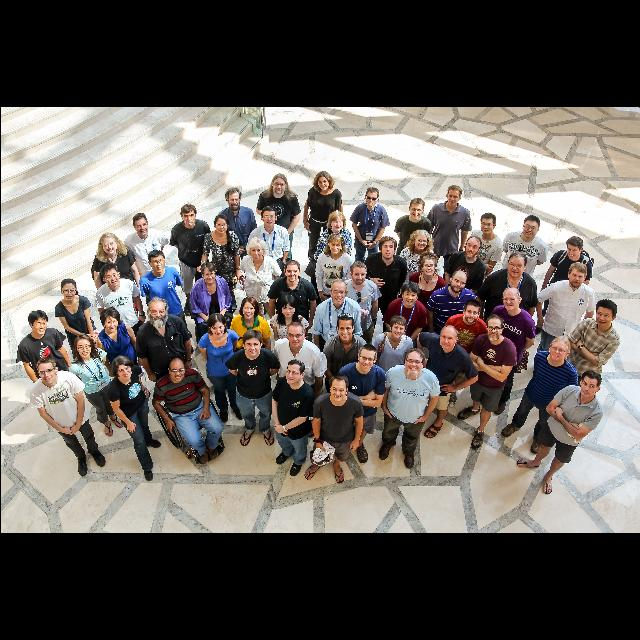head: (35, 358, 57, 386), (596, 299, 618, 327), (580, 370, 602, 398), (329, 373, 349, 402), (549, 336, 571, 362), (242, 330, 262, 358), (357, 344, 377, 372), (98, 263, 120, 287), (27, 310, 47, 336), (112, 356, 132, 382), (146, 298, 166, 324), (286, 323, 306, 349), (404, 350, 424, 376), (568, 262, 588, 288), (336, 314, 354, 342), (462, 300, 482, 324), (502, 288, 522, 312), (330, 279, 348, 305), (486, 316, 504, 342), (508, 253, 526, 279), (439, 326, 458, 350), (74, 335, 92, 359), (59, 278, 77, 302), (147, 250, 165, 274), (207, 314, 225, 338), (286, 360, 304, 384), (449, 270, 467, 294), (168, 358, 185, 382), (349, 262, 366, 286), (389, 315, 406, 339), (378, 237, 396, 259), (464, 236, 482, 258), (522, 216, 540, 238), (249, 238, 265, 262), (280, 295, 296, 319), (402, 282, 418, 306), (567, 236, 583, 260), (260, 206, 278, 227), (200, 264, 218, 284), (102, 310, 118, 332), (132, 214, 148, 236), (180, 205, 196, 227), (271, 174, 287, 196), (284, 261, 300, 283), (409, 198, 425, 220), (226, 188, 240, 212), (242, 296, 256, 320), (446, 186, 462, 207), (480, 213, 496, 234), (101, 235, 117, 255), (328, 233, 342, 254), (364, 188, 380, 206), (214, 214, 228, 234), (316, 171, 330, 191), (330, 212, 344, 232), (414, 230, 428, 250), (422, 256, 436, 276)
person: (514, 369, 610, 496), (24, 355, 108, 481), (499, 336, 581, 456), (474, 248, 540, 388), (454, 312, 518, 453), (561, 297, 623, 438), (149, 356, 227, 466), (412, 315, 480, 441), (376, 344, 442, 472), (530, 256, 596, 384), (531, 232, 599, 354), (102, 354, 164, 484), (132, 296, 196, 416), (13, 310, 76, 430), (301, 372, 365, 486), (267, 321, 327, 442), (223, 327, 281, 447), (332, 342, 388, 466), (485, 286, 537, 418), (137, 248, 195, 358), (500, 212, 550, 338), (66, 331, 124, 439), (310, 278, 364, 394), (266, 258, 318, 374), (266, 358, 316, 478), (424, 268, 478, 379), (89, 231, 143, 339), (91, 262, 147, 366), (194, 311, 246, 423), (93, 306, 151, 404), (230, 235, 284, 339), (424, 183, 474, 295), (443, 297, 491, 411), (441, 233, 489, 345), (243, 205, 290, 318), (254, 170, 302, 280), (320, 311, 370, 415), (362, 234, 408, 346), (168, 203, 212, 319), (51, 276, 101, 378), (195, 214, 245, 316), (225, 296, 271, 402), (372, 314, 416, 424), (303, 210, 353, 306), (186, 260, 234, 356), (382, 280, 428, 380), (215, 186, 259, 290), (312, 234, 356, 336), (121, 212, 169, 304), (464, 210, 504, 320), (300, 171, 344, 263), (266, 292, 310, 383), (342, 260, 382, 360), (404, 249, 450, 335), (349, 184, 391, 278), (392, 196, 433, 290), (397, 227, 438, 307)
